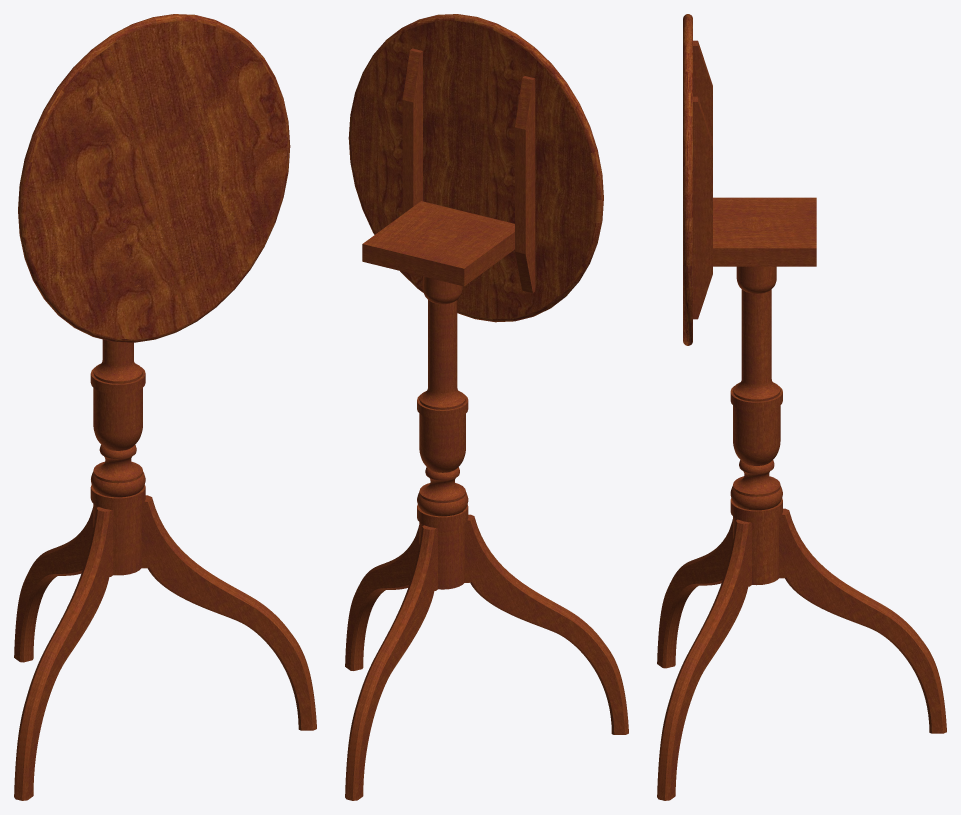
The picture shows the model from 3 angles, left to right: view 1: azimuth 30°, elevation 25°; view 2: azimuth 150°, elevation 25°; view 3: azimuth 270°, elevation 25°; orthographic projection. The views are drawn at different scales.
Visible parts, largest first — view 1: top (×2), legs (×6), column (×6); view 2: top, legs (×6), column (×5), pivot_block, cleat (×2), pivot_strip; view 3: legs (×6), column (×6), pivot_block, cleat (×2), top.
Part boxes in pixels (box(x1,y1,x2,y2)): top (×2): box(18, 14, 290, 342); legs (×6): box(14, 495, 316, 800); column (×6): box(90, 339, 145, 575); top: box(348, 14, 603, 322); legs (×6): box(345, 514, 628, 800); column (×5): box(417, 276, 468, 589); pivot_block: box(362, 205, 514, 286); cleat (×2): box(402, 48, 535, 292); pivot_strip: box(415, 201, 514, 229); legs (×6): box(657, 508, 946, 800); column (×6): box(730, 266, 782, 585); pivot_block: box(713, 197, 816, 266); cleat (×2): box(693, 40, 712, 319); top: box(683, 14, 692, 345).
Size of the model in its own units: 16.67 by 14.5 by 38.9.
Materials: 6 (6 with a texture image).
